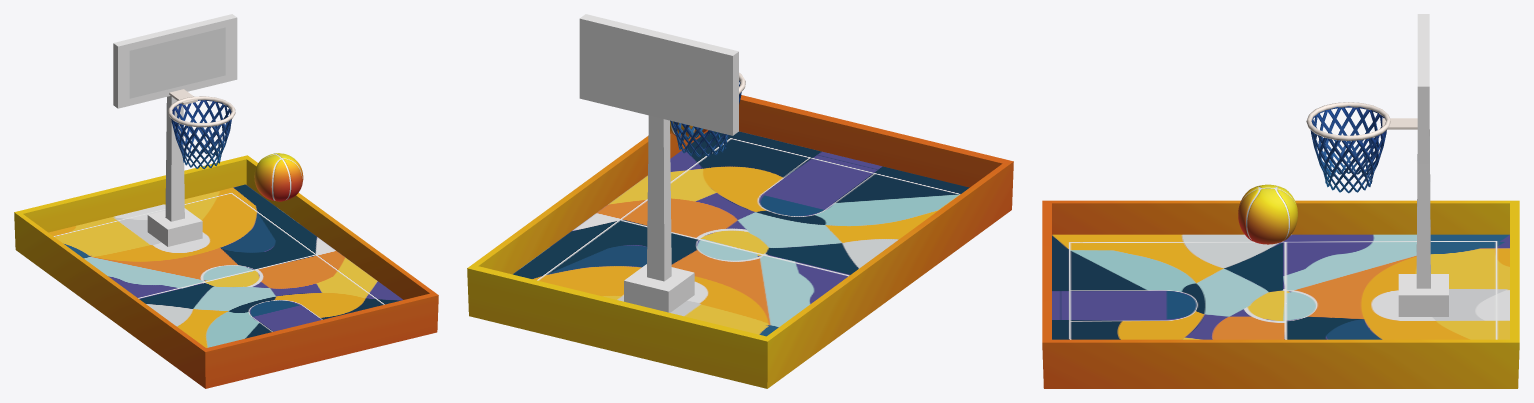
File: Saha_Pota_Top_3_.fbx
The picture shows the model from 3 angles, left to right: view 1: azimuth 30°, elevation 25°; view 2: azimuth 150°, elevation 25°; view 3: azimuth 270°, elevation 25°; orthographic projection. The views are drawn at different scales.
Visible parts, largest first — view 1: Cube.016, Cube.018, pota, trans_pota_mavi, file, top.004; view 2: Cube.016, Cube.018, pota, file; view 3: Cube.016, Cube.018, pota, file, top.004.
Boxes of the visible parts, x1,y1,x2,y2 form: Cube.016: (48, 184, 402, 347); Cube.018: (14, 155, 438, 388); pota: (113, 14, 237, 246); trans_pota_mavi: (129, 27, 225, 98); file: (168, 89, 235, 169); top.004: (254, 153, 303, 201); Cube.016: (513, 131, 969, 336); Cube.018: (467, 95, 1013, 388); pota: (579, 14, 738, 312); file: (670, 72, 745, 157); Cube.016: (1052, 234, 1509, 339); Cube.018: (1042, 200, 1519, 388); pota: (1398, 14, 1448, 316); file: (1306, 102, 1417, 193); top.004: (1238, 184, 1297, 244).
Size of the model in its own units: 11853 by 10558 by 16820.
